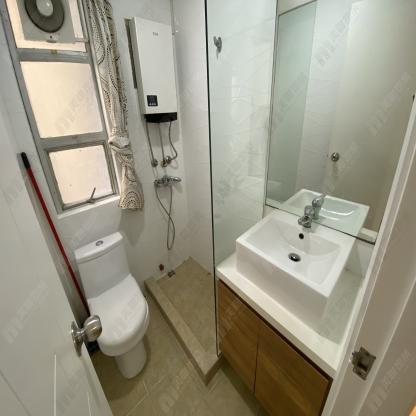Exhaust Fan: (17, 1, 74, 43)
Faucet: (297, 205, 318, 229)
Toilet: (74, 231, 150, 381)
Toilet Sink: (236, 208, 357, 334)
Water Cubicle: (114, 0, 276, 388)
Water Heater: (128, 17, 178, 123)
